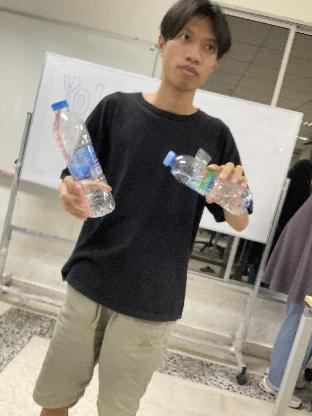Plastic Bottle: (52, 99, 116, 217), (163, 148, 252, 218)
